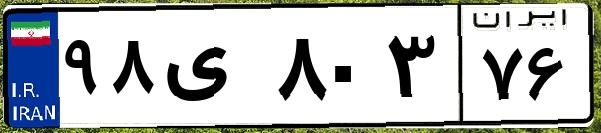0: (330, 28, 385, 110)
3: (385, 28, 445, 110)
6: (525, 38, 570, 115)
7: (475, 38, 525, 113)
8: (270, 28, 330, 110), (110, 28, 158, 98)
9: (57, 26, 110, 100)
ی: (158, 20, 270, 120)
